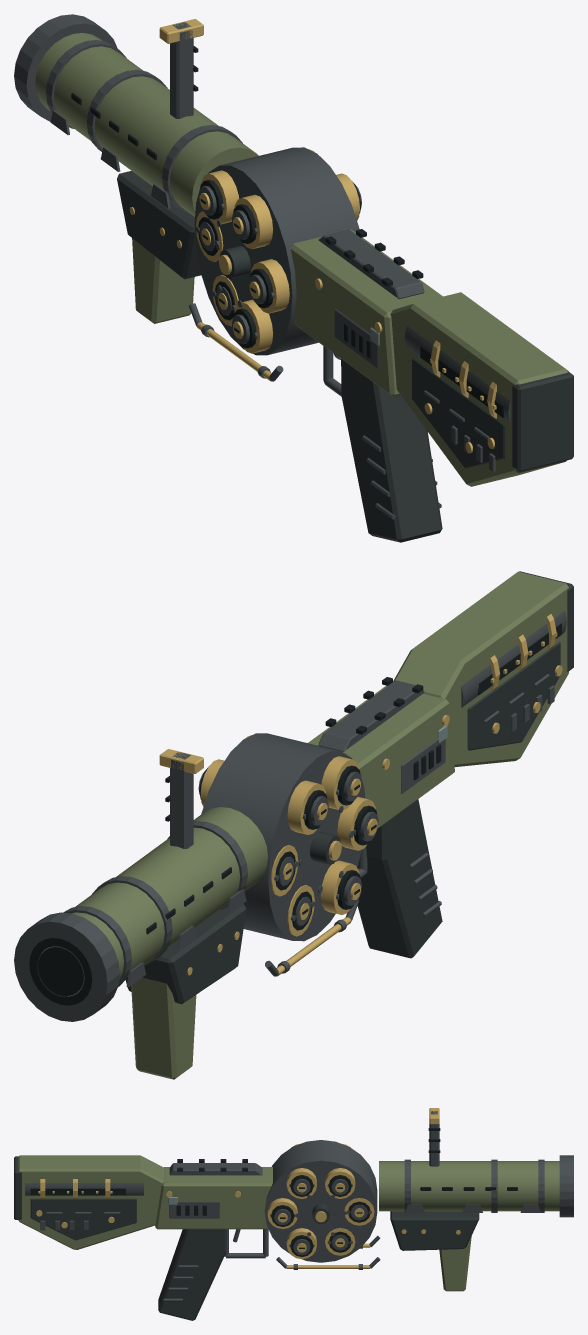
The model's file is grenade_0.glb.
3 renders of one model, top to bottom at view 1: azimuth 30°, elevation 25°; view 2: azimuth 150°, elevation 25°; view 3: azimuth 270°, elevation 25°, orthographic. The views are drawn at different scales.
Visible parts, largest first — view 1: Weapon_grenade_v1; view 2: Weapon_grenade_v1; view 3: Weapon_grenade_v1.
Part boxes in pixels (x1,y1,x2,y2): Weapon_grenade_v1: (14, 14, 573, 542); Weapon_grenade_v1: (14, 571, 573, 1079); Weapon_grenade_v1: (14, 1108, 573, 1320).
Size of the model in its own units: 0.1114 by 0.3092 by 0.775.
